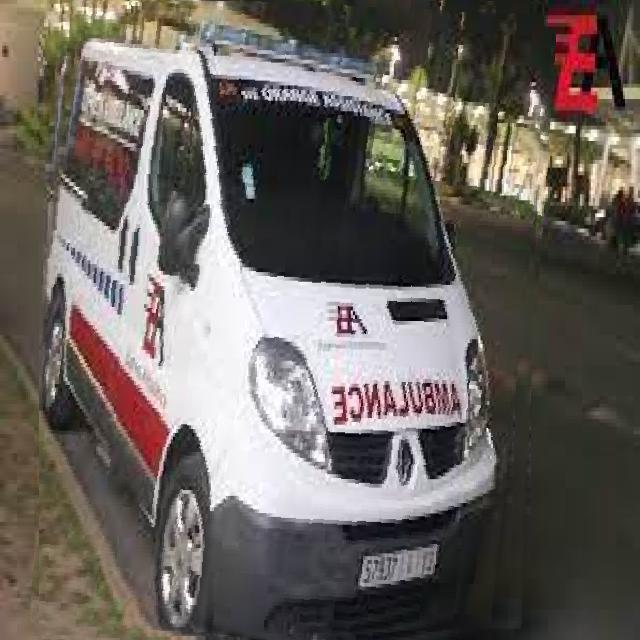ambulance: (39, 1, 545, 640)
